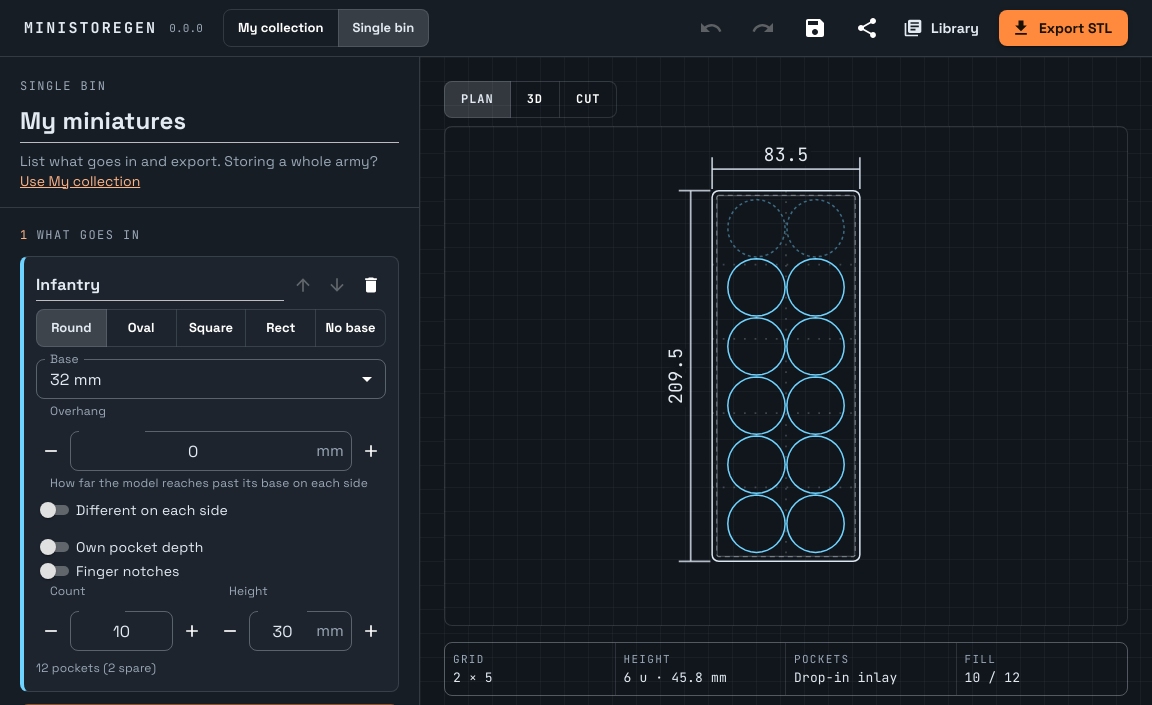
Test: saves a single bin to the library
The width and height of the screenshot is (1152, 705).
Click the button named "Save" at (815, 28), box [795,8,835,48]
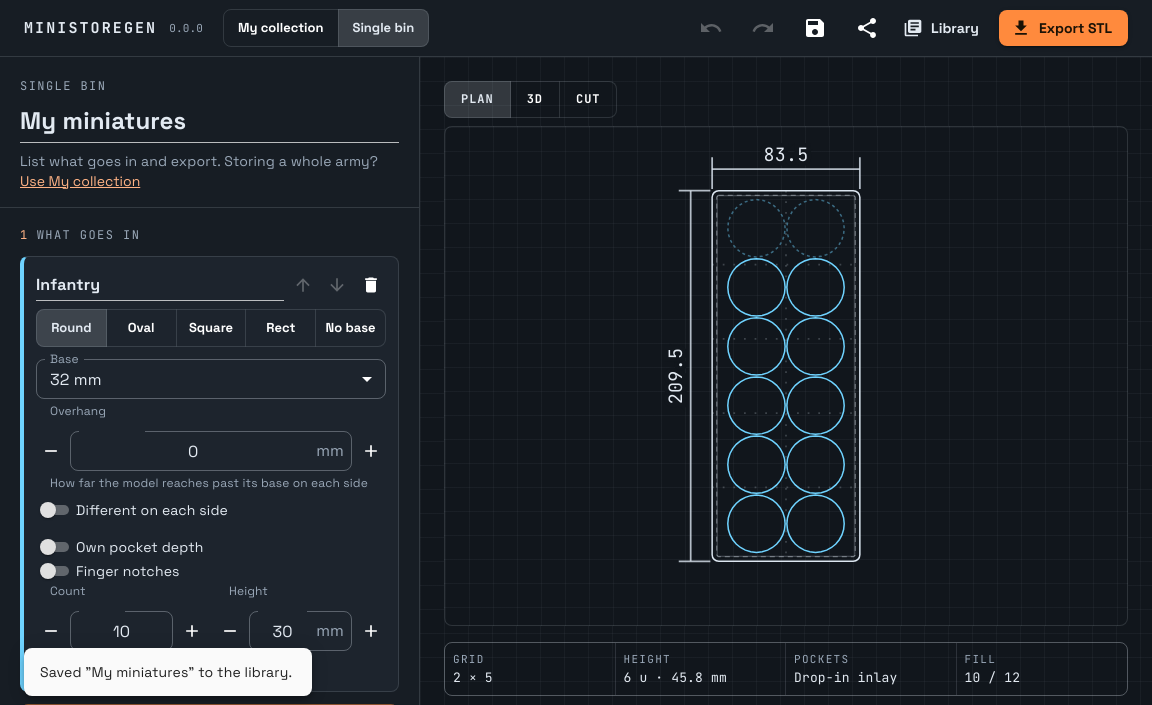
Click the button "Library" at (943, 28), box [899,10,987,46]
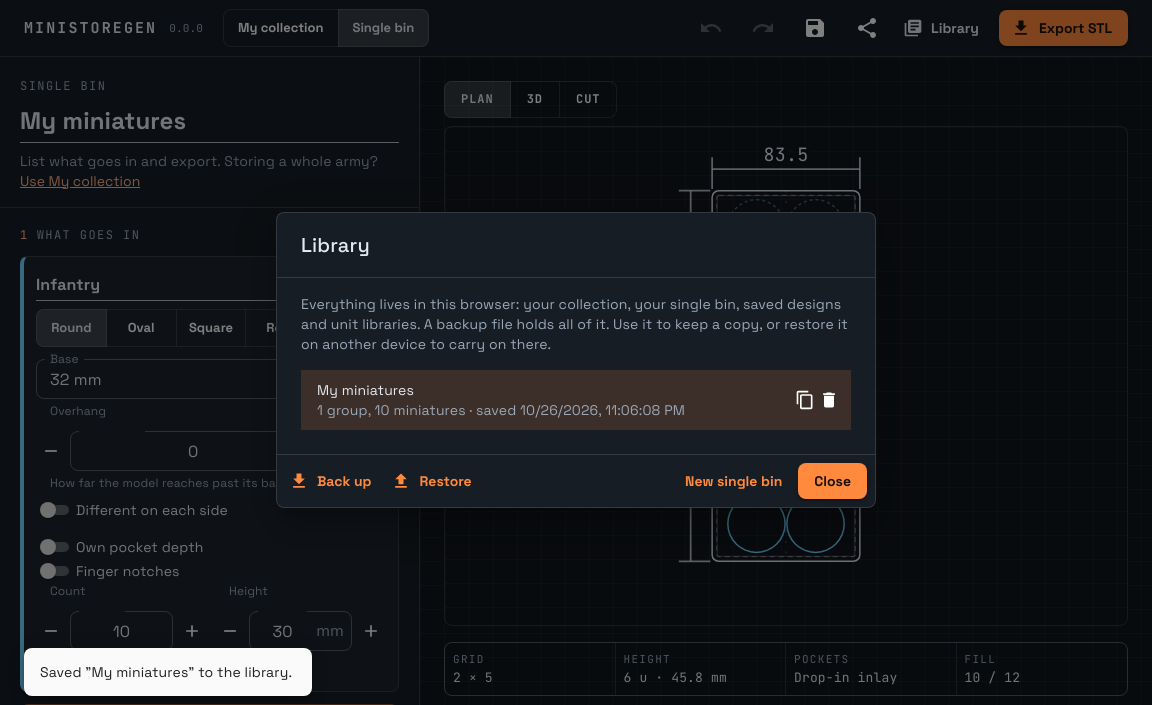
Expected: the text "My miniatures" is shown, [317,381,414,399]
